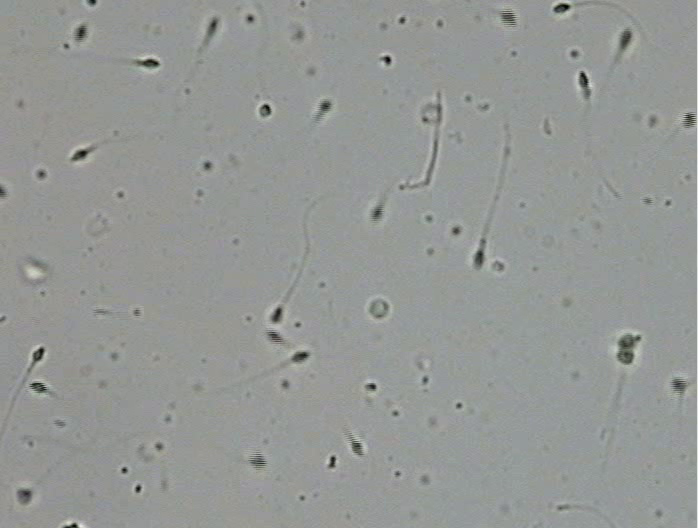Impurity: (368, 298, 389, 319)
S: (616, 334, 635, 365), (499, 8, 518, 27), (249, 451, 267, 470), (348, 437, 365, 456), (670, 376, 687, 394), (682, 111, 697, 129), (73, 25, 88, 42), (267, 330, 284, 345), (620, 29, 632, 50), (16, 490, 32, 505), (29, 381, 48, 393), (473, 250, 485, 269), (318, 99, 333, 114), (71, 149, 88, 162), (292, 350, 310, 362), (141, 58, 160, 69), (32, 347, 45, 362), (371, 206, 383, 222), (207, 19, 218, 36), (271, 307, 282, 323), (553, 3, 570, 13), (259, 104, 272, 117), (578, 71, 588, 87), (1, 185, 7, 199), (86, 1, 97, 6)
